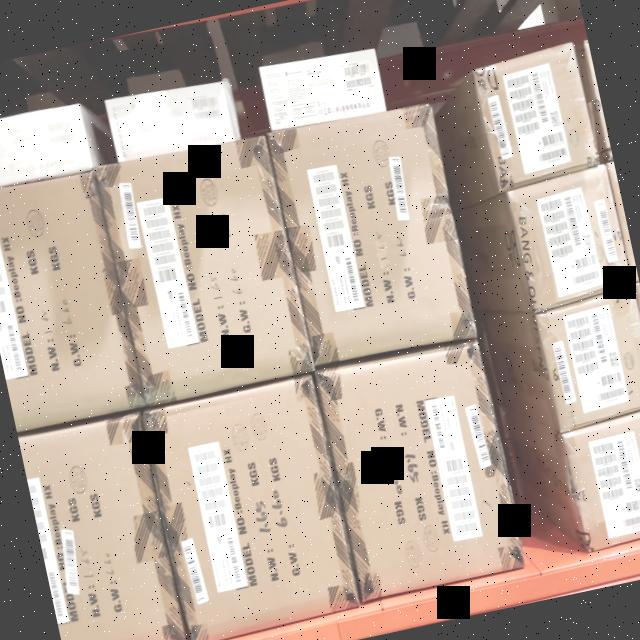box: (143, 376, 362, 638), (100, 136, 311, 397), (268, 103, 475, 364), (318, 346, 522, 596), (19, 416, 188, 640), (0, 173, 139, 421), (476, 48, 602, 184), (508, 170, 632, 306), (533, 291, 640, 427), (563, 414, 640, 548), (110, 82, 236, 161), (264, 49, 386, 130), (0, 102, 93, 192)
